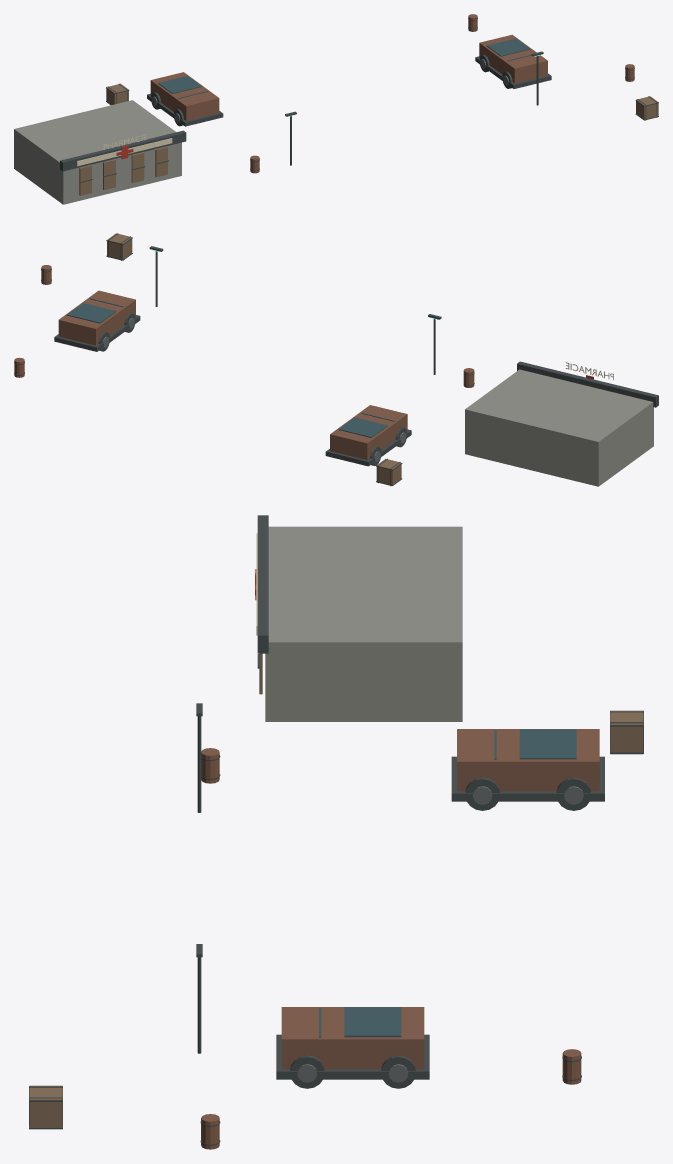
Rendered from Ville_03_Carrefour_et_pharmacie.fbx.
3 views of the same model, one above another, from view 1: azimuth 30°, elevation 25°; view 2: azimuth 150°, elevation 25°; view 3: azimuth 270°, elevation 25° (orthographic). The views are drawn at different scales.
Visible parts, largest first — view 1: Ville_03_Carrefour_et_pharmacie_concrete, Ville_03_Carrefour_et_pharmacie_rust, Ville_03_Carrefour_et_pharmacie_iron, Ville_03_Carrefour_et_pharmacie_wood, Ville_03_Carrefour_et_pharmacie_glass, Ville_03_Carrefour_et_pharmacie_paint; view 2: Ville_03_Carrefour_et_pharmacie_concrete, Ville_03_Carrefour_et_pharmacie_rust, Ville_03_Carrefour_et_pharmacie_iron, Ville_03_Carrefour_et_pharmacie_glass, Ville_03_Carrefour_et_pharmacie_wood; view 3: Ville_03_Carrefour_et_pharmacie_concrete, Ville_03_Carrefour_et_pharmacie_rust, Ville_03_Carrefour_et_pharmacie_iron, Ville_03_Carrefour_et_pharmacie_glass, Ville_03_Carrefour_et_pharmacie_wood, Ville_03_Carrefour_et_pharmacie_concrete_dark.
Part boxes in pixels (x1=…): Ville_03_Carrefour_et_pharmacie_concrete: x1=14, y1=100, x2=181, y2=204; Ville_03_Carrefour_et_pharmacie_rust: x1=150, y1=14, x2=634, y2=173; Ville_03_Carrefour_et_pharmacie_iron: x1=60, y1=18, x2=658, y2=182; Ville_03_Carrefour_et_pharmacie_wood: x1=79, y1=83, x2=658, y2=195; Ville_03_Carrefour_et_pharmacie_glass: x1=158, y1=38, x2=531, y2=98; Ville_03_Carrefour_et_pharmacie_paint: x1=77, y1=138, x2=172, y2=166; Ville_03_Carrefour_et_pharmacie_concrete: x1=465, y1=369, x2=653, y2=486; Ville_03_Carrefour_et_pharmacie_rust: x1=14, y1=265, x2=474, y2=460; Ville_03_Carrefour_et_pharmacie_iron: x1=14, y1=233, x2=658, y2=486; Ville_03_Carrefour_et_pharmacie_glass: x1=67, y1=298, x2=394, y2=437; Ville_03_Carrefour_et_pharmacie_wood: x1=107, y1=233, x2=401, y2=485; Ville_03_Carrefour_et_pharmacie_concrete: x1=265, y1=526, x2=462, y2=721; Ville_03_Carrefour_et_pharmacie_rust: x1=201, y1=729, x2=599, y2=1149; Ville_03_Carrefour_et_pharmacie_iron: x1=29, y1=515, x2=643, y2=1145; Ville_03_Carrefour_et_pharmacie_glass: x1=319, y1=729, x2=576, y2=1037; Ville_03_Carrefour_et_pharmacie_wood: x1=29, y1=653, x2=643, y2=1127; Ville_03_Carrefour_et_pharmacie_concrete_dark: x1=297, y1=786, x2=583, y2=1082.
Size of the model in its own units: 118 by 11.06 by 56.1.
